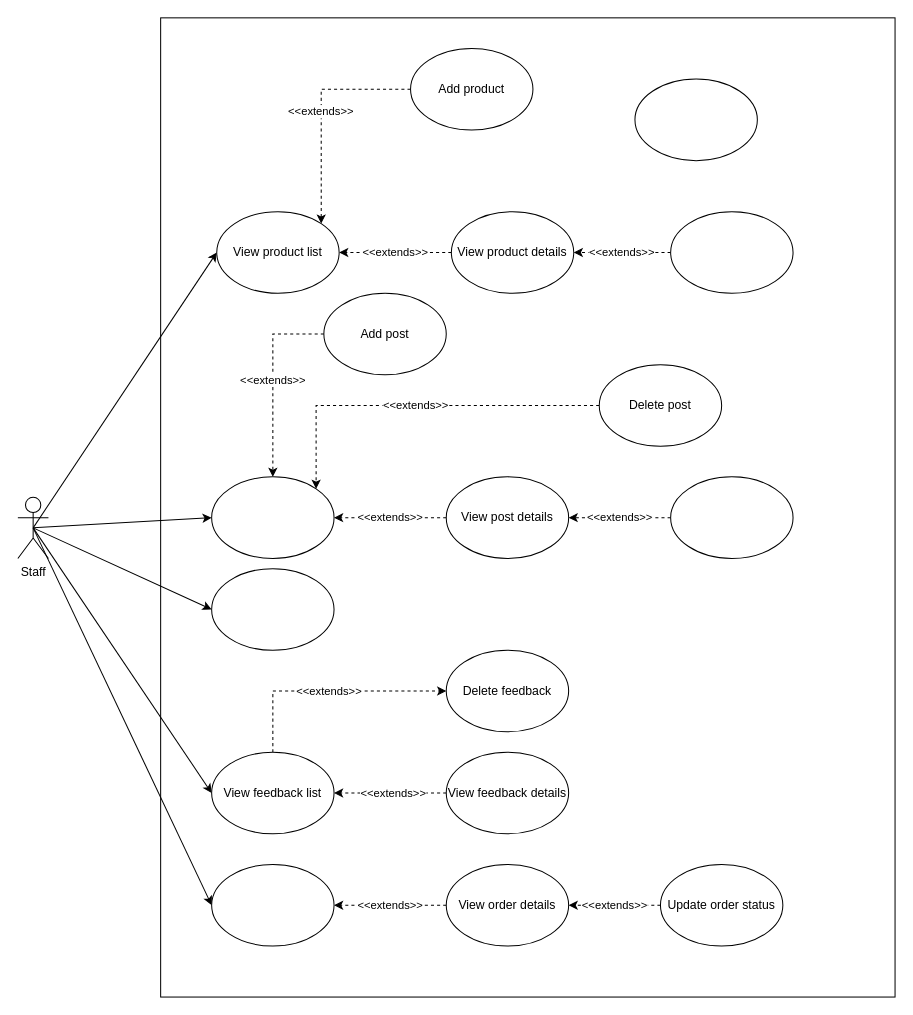
The diagram is 913 pixels wide and 1015 high, and some of its shapes have lost their labels. The shapes that lost their labels are listed below. From the top down, each one's box as (x1, y1, x2, y2) in pixels, then its label:
(634, 78, 757, 161): Delete product
(670, 211, 793, 293): Update product details
(211, 476, 334, 558): View post list
(670, 476, 793, 558): Update post details
(211, 568, 334, 650): View analytics
(211, 863, 334, 946): View order list
